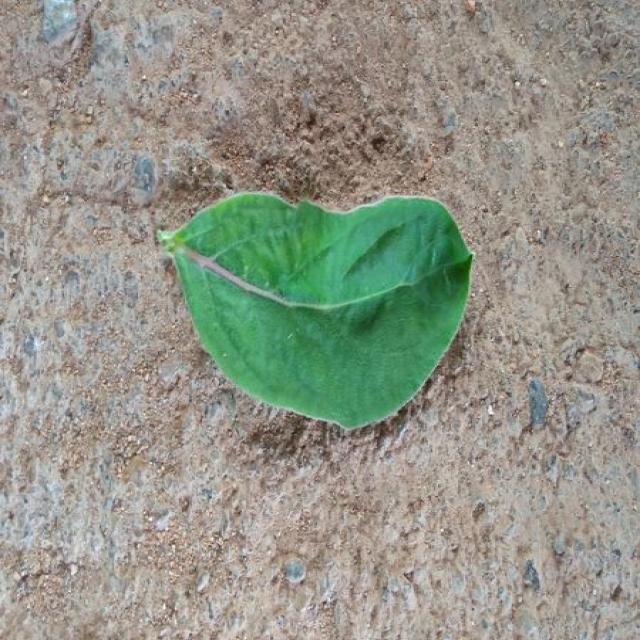globe amarnath: (158, 194, 472, 428)
